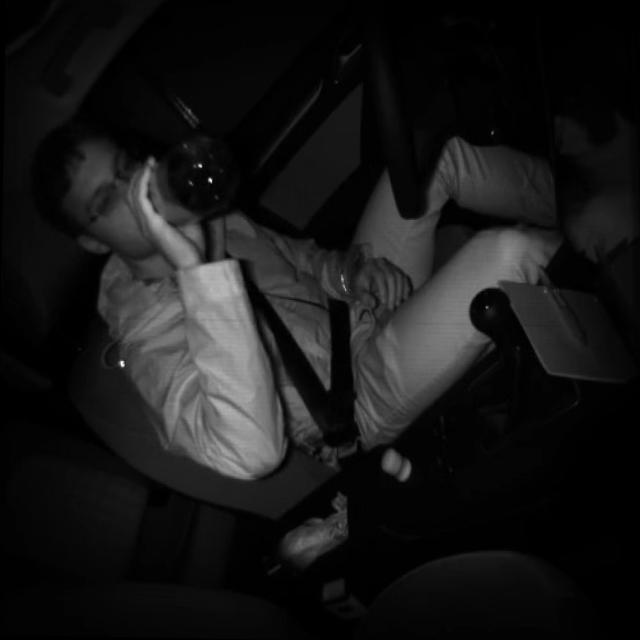pen: (534, 262, 591, 350)
